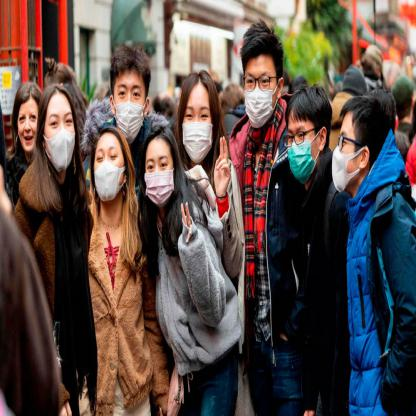Not_Wearing_Mask: (16, 107, 39, 150)
Wearing_Mask: (243, 65, 276, 130), (114, 78, 145, 140), (180, 101, 212, 161), (286, 123, 317, 182), (328, 125, 355, 192), (44, 106, 72, 168), (93, 143, 124, 198), (143, 150, 174, 205)
